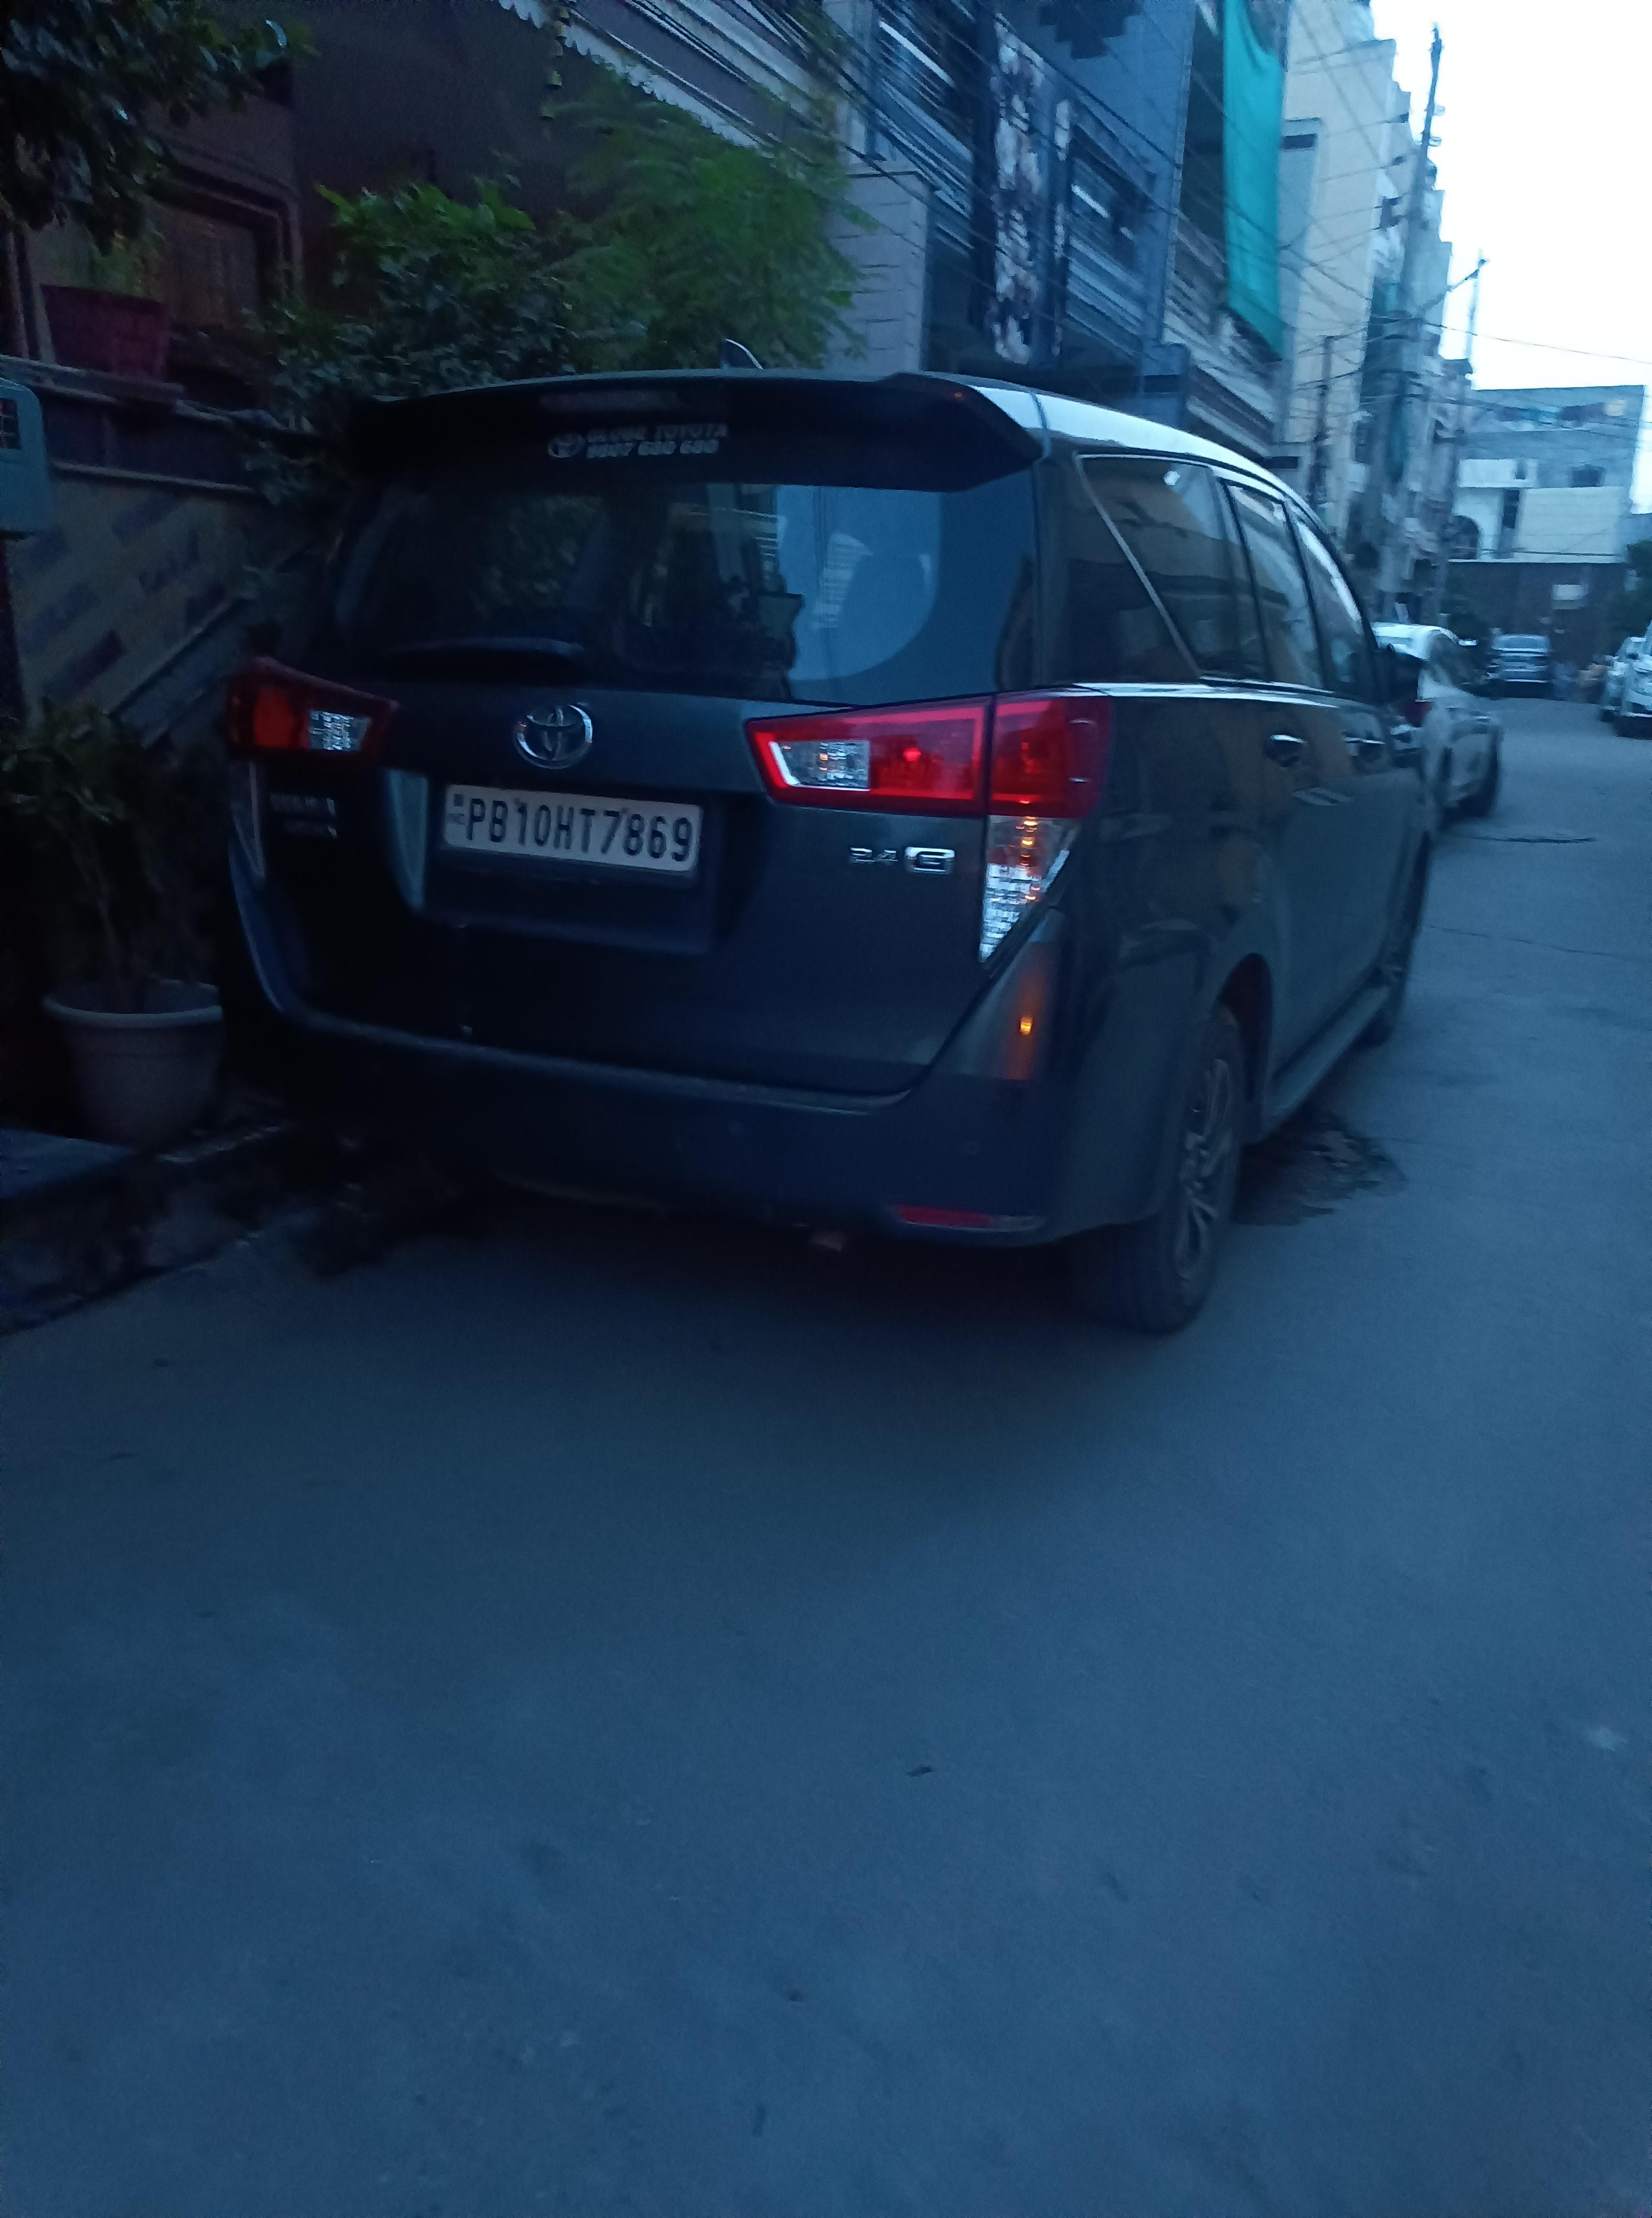license_plate: (421, 747, 731, 895)
